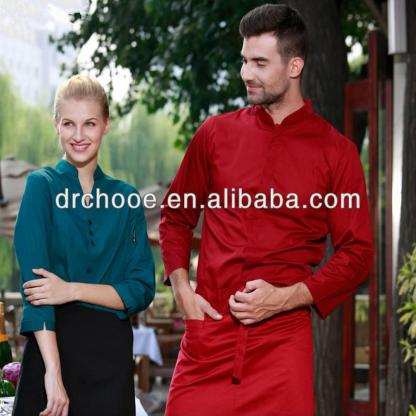face: (240, 34, 288, 105), (60, 97, 106, 162)
